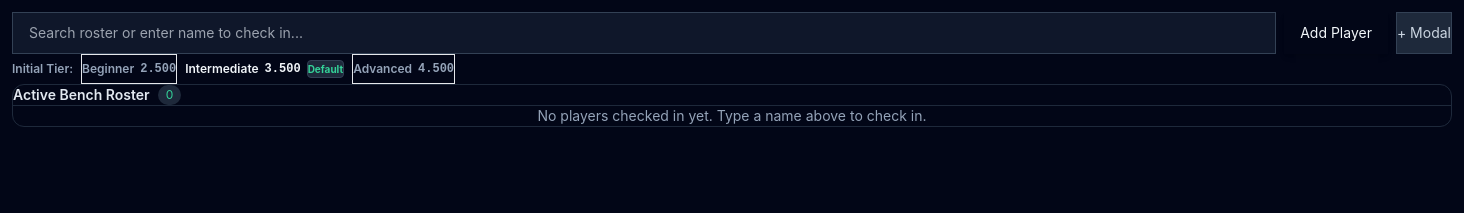
Scenario: RosterCheckInList › checks in unrated player with default Intermediate tier anchor and displays 3.500 with Provisional badge
Type "Intermediate Ian" into the field with placeholder "Search roster or enter name to check in..." at (644, 33), box [12,12,1276,54]
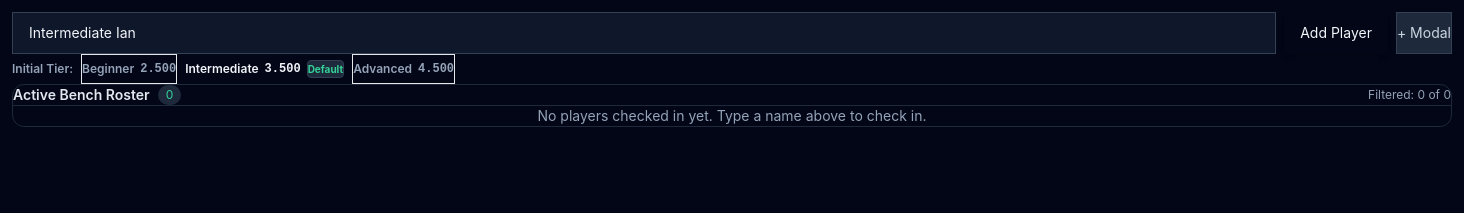
Note: Default tier is Intermediate (3.500)
Click the button "Add Player" at (1336, 33), box [1284,12,1388,54]
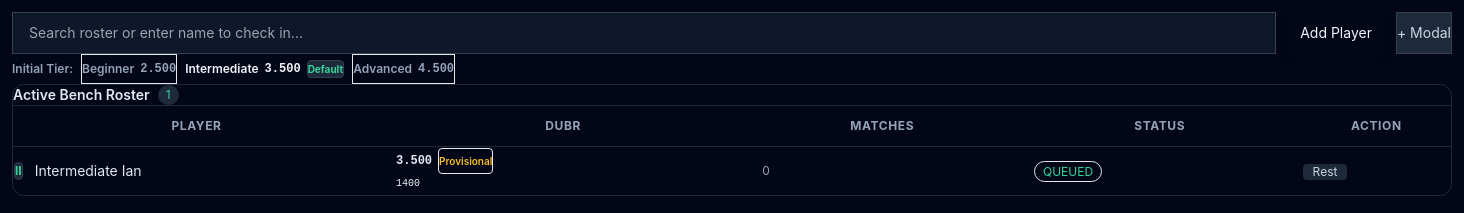
Expected: the text "Intermediate Ian" is shown, [35,161,142,181]
Expected: the text "3.500" next to "Provisional" is shown, [396,154,432,168]
Expected: the text "Provisional" is shown, [438,148,493,174]
